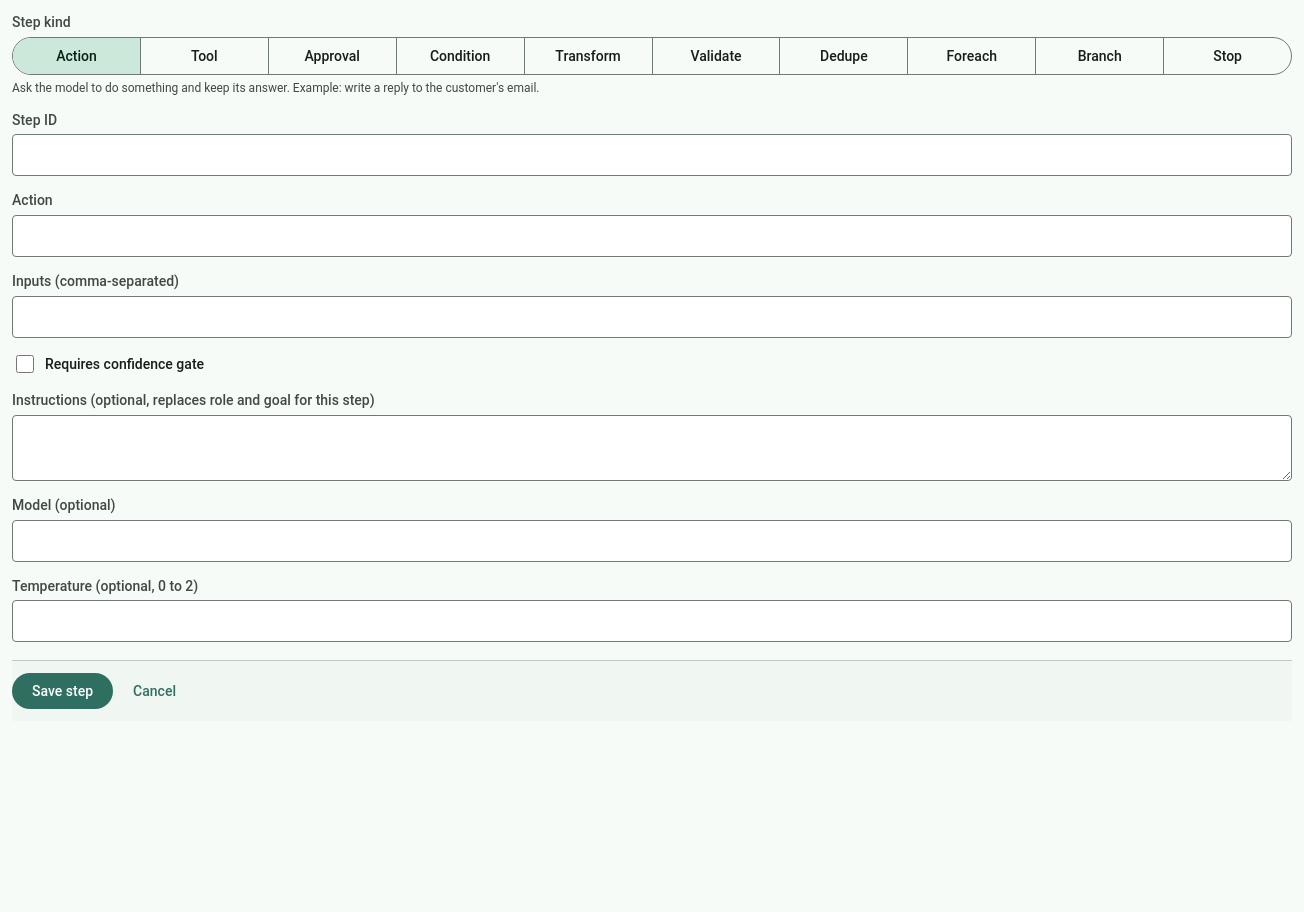
Test: Add Workflow Step kind help › Condition explains itself, with an example, once selected
Click the button "Condition" at (461, 56), box [397,38,525,74]
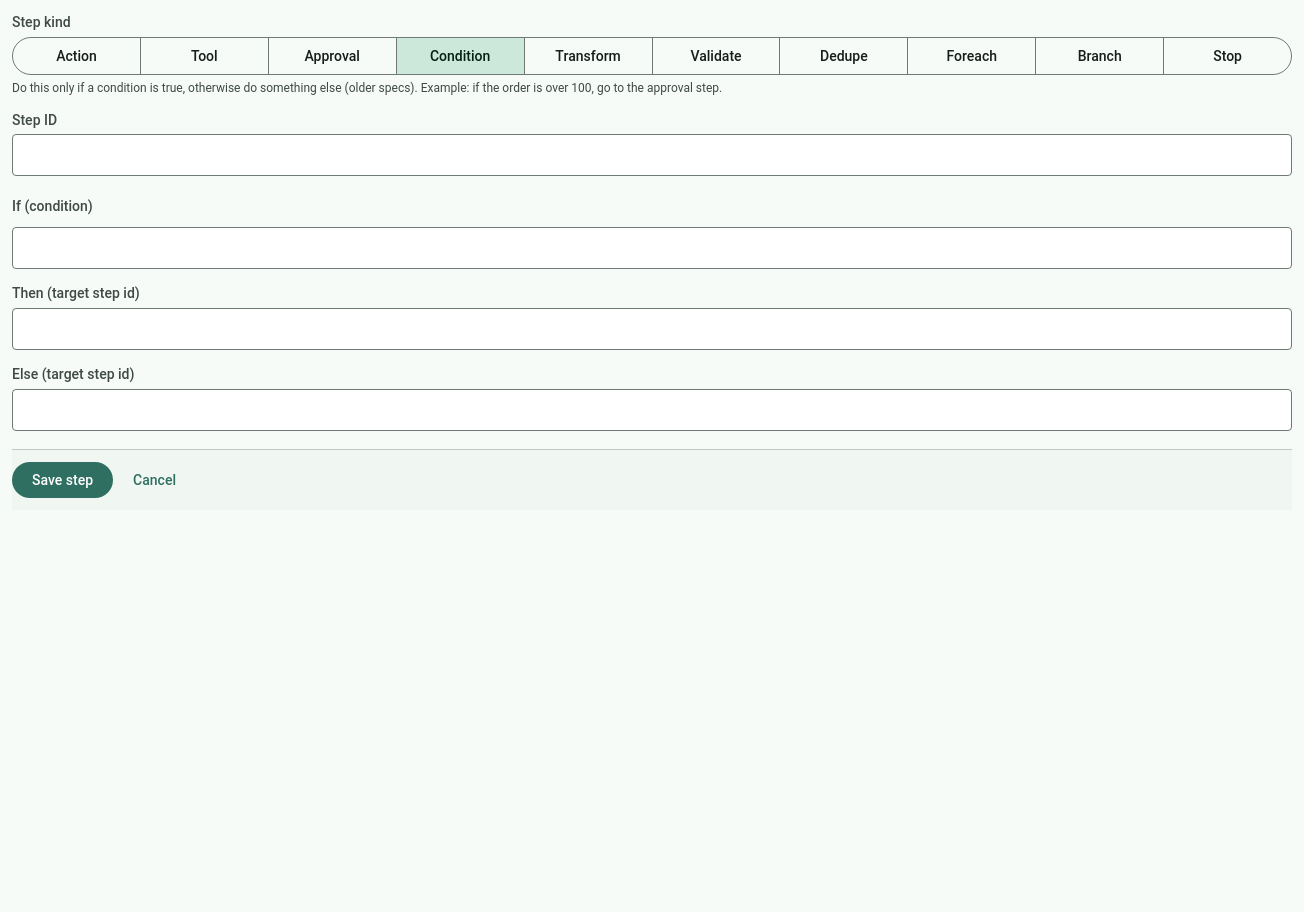
Expected: the text with test id "step-kind-help" shows "Example:", [421,81,722,95]
Result: the text with test id "step-kind-help" shows "only if a condition is true" at [12,81,418,95]
